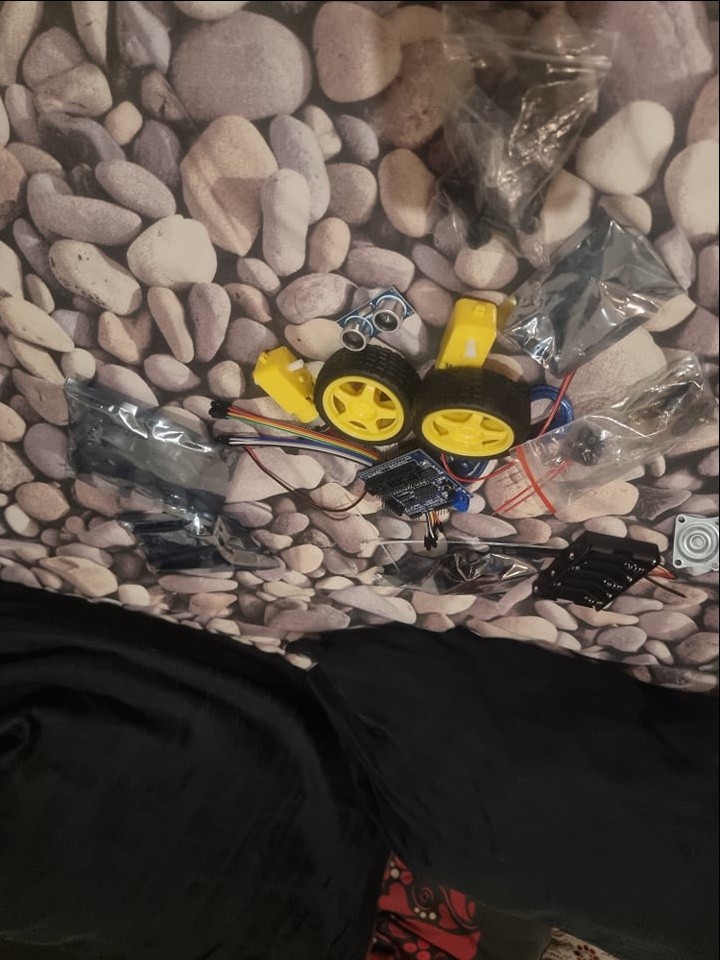5V EXPANSION: (357, 446, 475, 520)
BATTERY BOX: (534, 530, 664, 613)
SENSOR: (336, 284, 419, 350)
